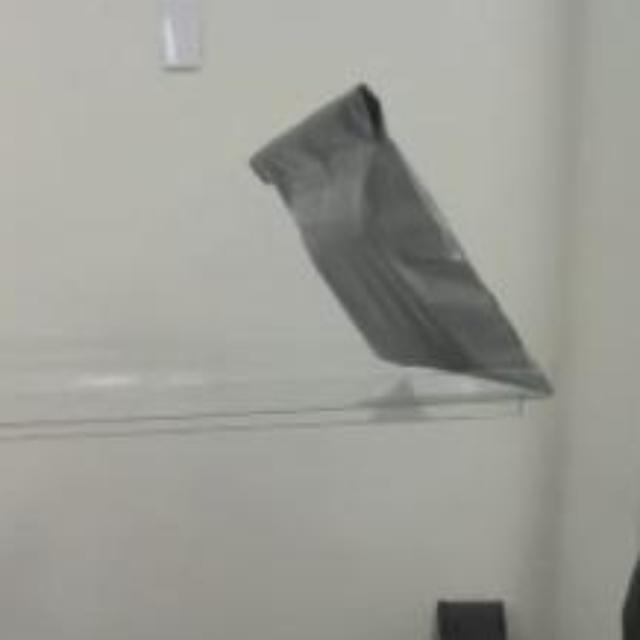mailer: (243, 76, 562, 396)
